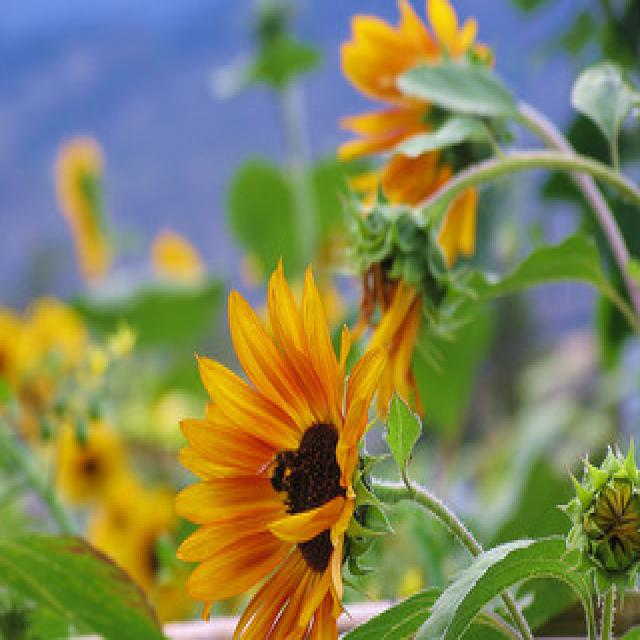sunflower: (171, 254, 381, 640)
